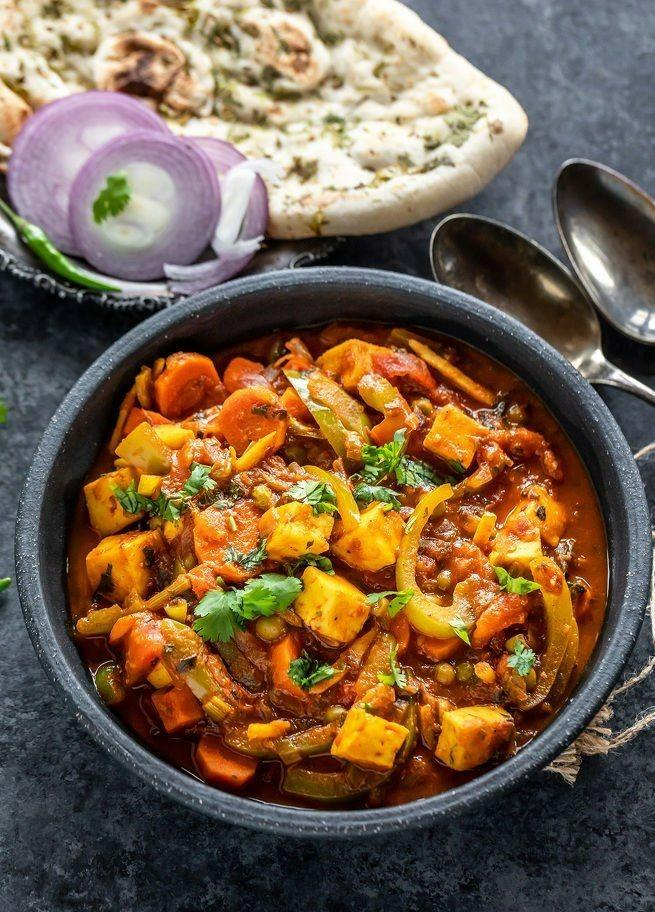AlooGobi: (72, 322, 598, 812)
